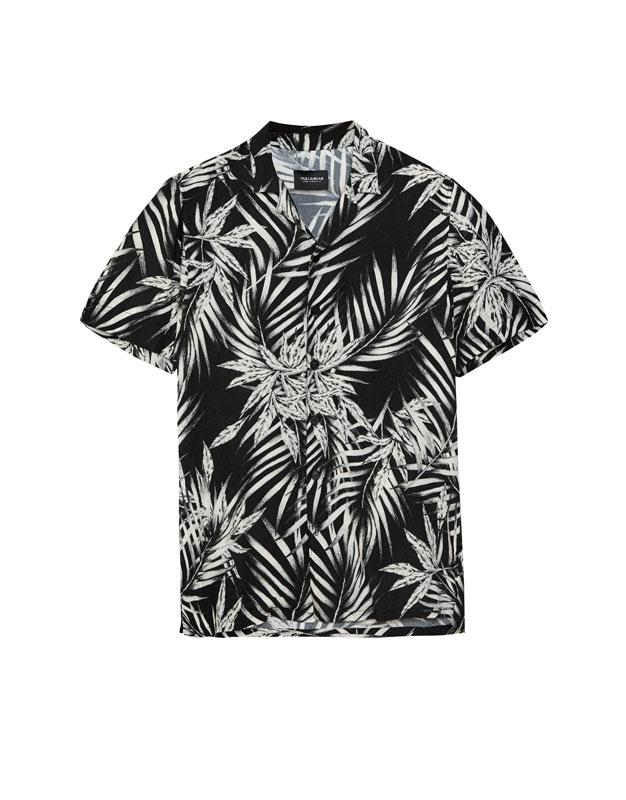teeshirt: (89, 108, 552, 645)
